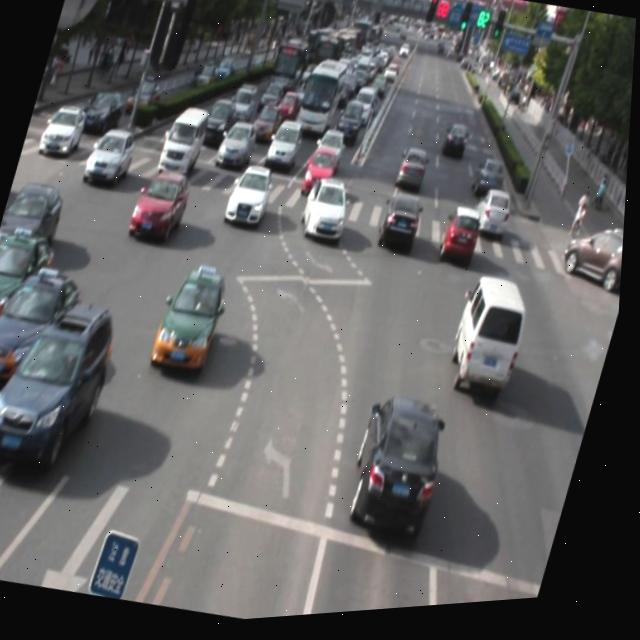car: (0, 288, 130, 479), (345, 394, 459, 546), (0, 258, 90, 394), (150, 263, 236, 380), (127, 164, 198, 254), (298, 175, 358, 250), (223, 162, 279, 234), (375, 191, 427, 257), (440, 208, 488, 270)
truck: (444, 273, 540, 408)
